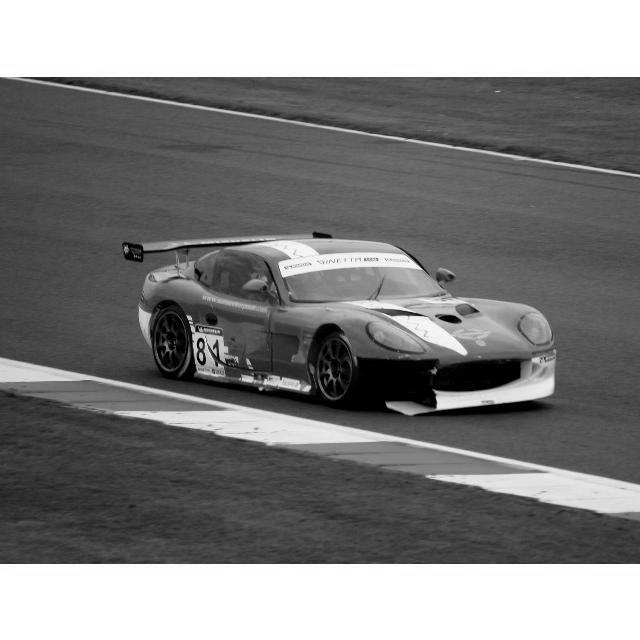front-bumper-dent: (347, 348, 549, 415)
